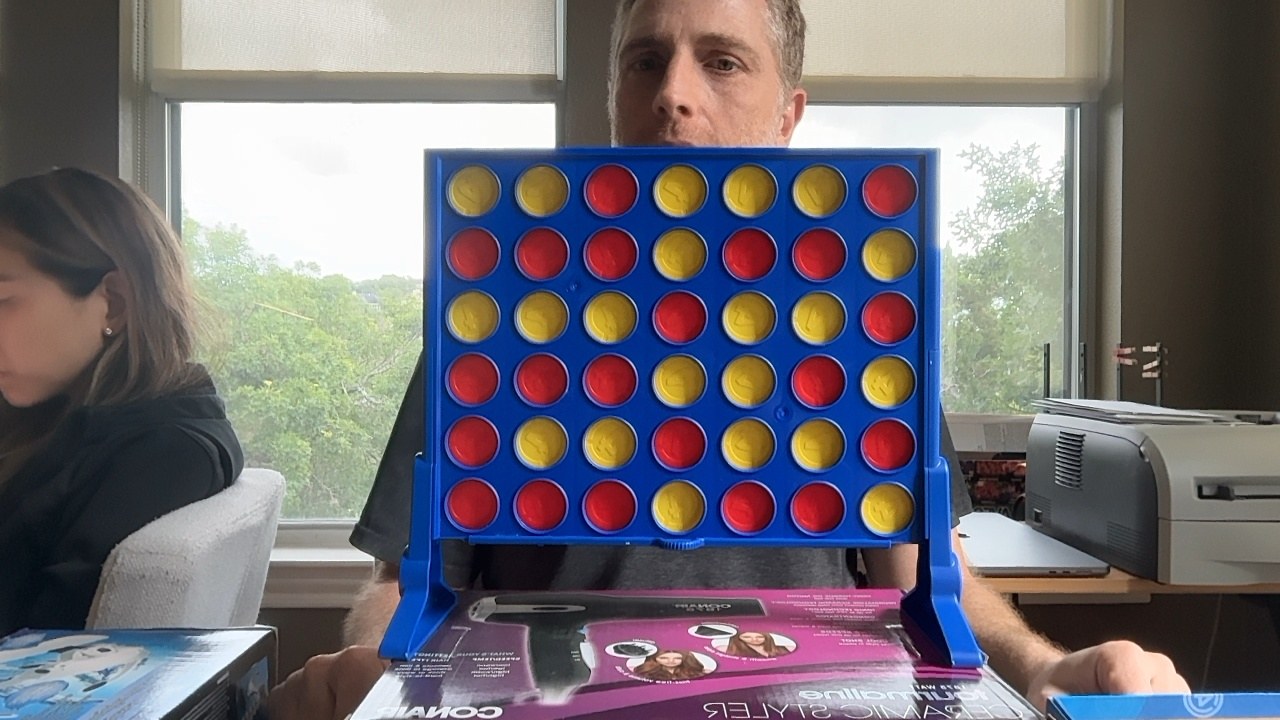red piece: (792, 228, 846, 281), (792, 355, 846, 408), (583, 227, 637, 280), (721, 481, 775, 534), (863, 164, 917, 217), (515, 353, 568, 406), (515, 227, 568, 280), (584, 353, 637, 406), (862, 292, 916, 344), (723, 228, 776, 280), (653, 417, 705, 470), (861, 419, 914, 471), (585, 164, 637, 217), (653, 291, 706, 343), (447, 227, 499, 280), (583, 480, 636, 532), (446, 415, 498, 467), (445, 479, 497, 531), (791, 482, 844, 533), (515, 479, 566, 531), (447, 353, 498, 405)
yellow piece: (583, 416, 636, 470), (722, 291, 776, 344), (723, 164, 776, 217), (722, 355, 775, 408), (514, 416, 567, 469), (722, 418, 775, 471), (652, 480, 705, 533), (793, 165, 847, 217), (792, 292, 846, 344), (654, 164, 706, 217), (583, 291, 636, 343), (653, 228, 706, 280), (515, 165, 568, 217), (862, 355, 914, 408), (792, 418, 844, 471), (653, 355, 705, 407), (446, 290, 498, 342), (515, 291, 568, 342), (861, 483, 914, 534), (862, 229, 915, 280), (447, 165, 499, 216)
